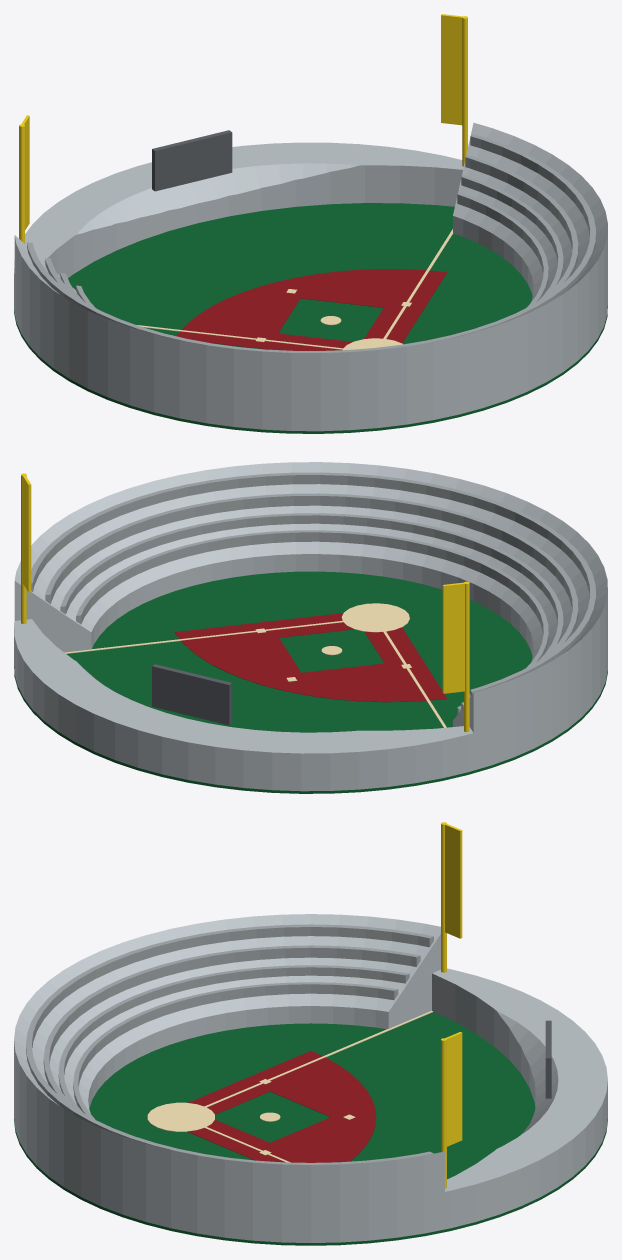
File: estadio.obj
3 views of the same model, one above another, from view 1: azimuth 30°, elevation 25°; view 2: azimuth 150°, elevation 25°; view 3: azimuth 270°, elevation 25° (orthographic).
Parts seen in each view (by area): view 1: estadio1; view 2: estadio1; view 3: estadio1.
Boxes of the visible parts, x1,y1,x2,y2 form: estadio1: [14, 14, 607, 433]; estadio1: [14, 462, 607, 793]; estadio1: [14, 822, 607, 1245].
Bounding box in the file's own units: 24.48 × 8.57 × 24.48.
